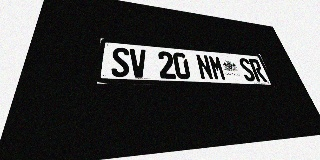0: (172, 52, 191, 79)
2: (157, 51, 176, 79)
M: (208, 55, 227, 80)
N: (195, 54, 214, 80)
R: (248, 58, 267, 82)
S: (111, 47, 129, 77), (237, 58, 257, 81)
V: (130, 48, 147, 78)
